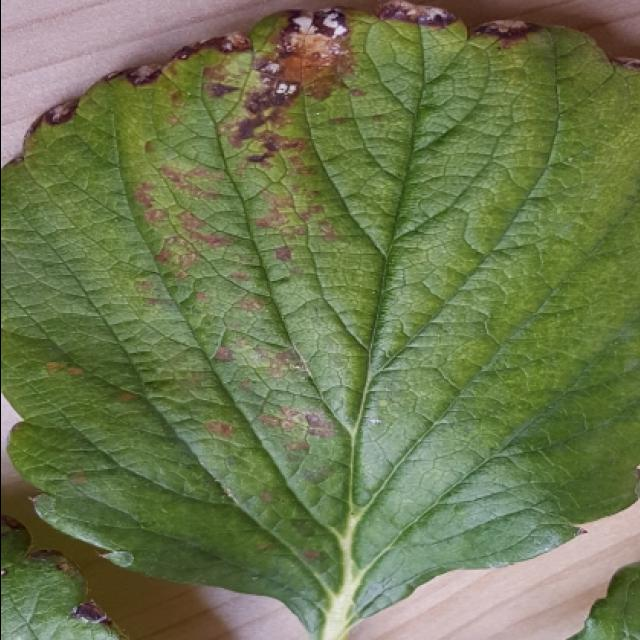Angular Leafspot: (24, 2, 546, 572)
